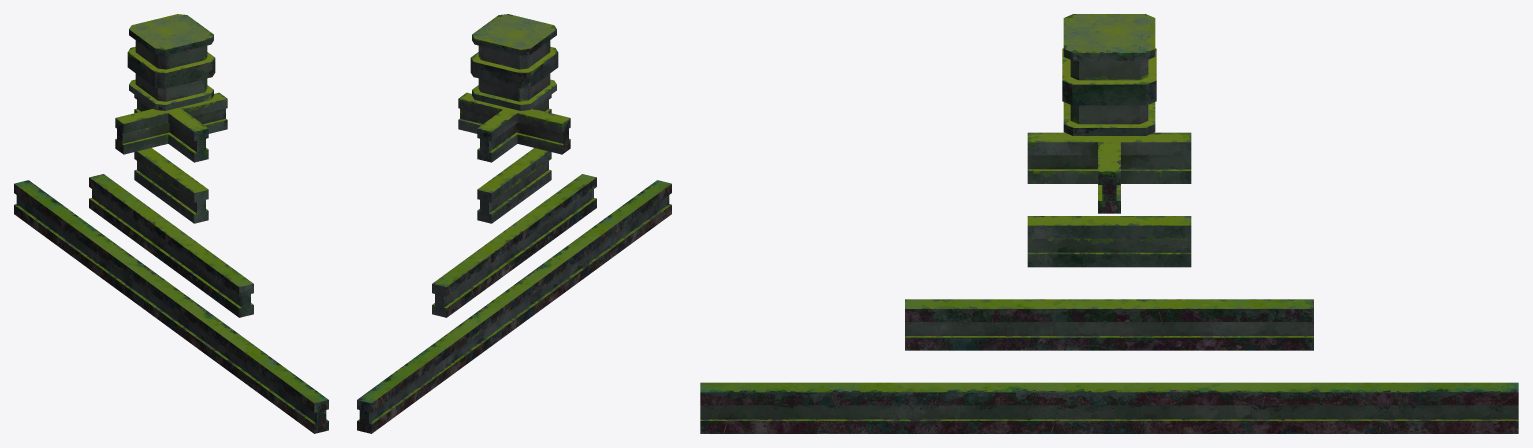
The model's file is metalbeams.fbx.
3 views of the same model, side by side, from view 1: azimuth 30°, elevation 25°; view 2: azimuth 150°, elevation 25°; view 3: azimuth 270°, elevation 25° (orthographic). The views are drawn at different scales.
Visible parts, largest first — view 1: Beam, Beam.001, Cube, Beam.004, Beam.002; view 2: Beam, Beam.001, Cube, Beam.004, Beam.002; view 3: Beam, Beam.001, Cube, Beam.004, Beam.002.
Part boxes in pixels (x1,y1,x2,y2): Beam: [14, 180, 328, 433]; Beam.001: [89, 174, 253, 317]; Cube: [127, 14, 215, 110]; Beam.004: [115, 92, 227, 162]; Beam.002: [134, 148, 208, 223]; Beam: [357, 180, 671, 433]; Beam.001: [432, 174, 596, 317]; Cube: [470, 14, 558, 110]; Beam.004: [458, 92, 570, 162]; Beam.002: [477, 148, 551, 223]; Beam: [700, 382, 1518, 433]; Beam.001: [905, 299, 1313, 350]; Cube: [1062, 14, 1156, 135]; Beam.004: [1027, 132, 1191, 213]; Beam.002: [1027, 216, 1191, 267].
Size of the model in its own units: 356 by 950 by 1781.
